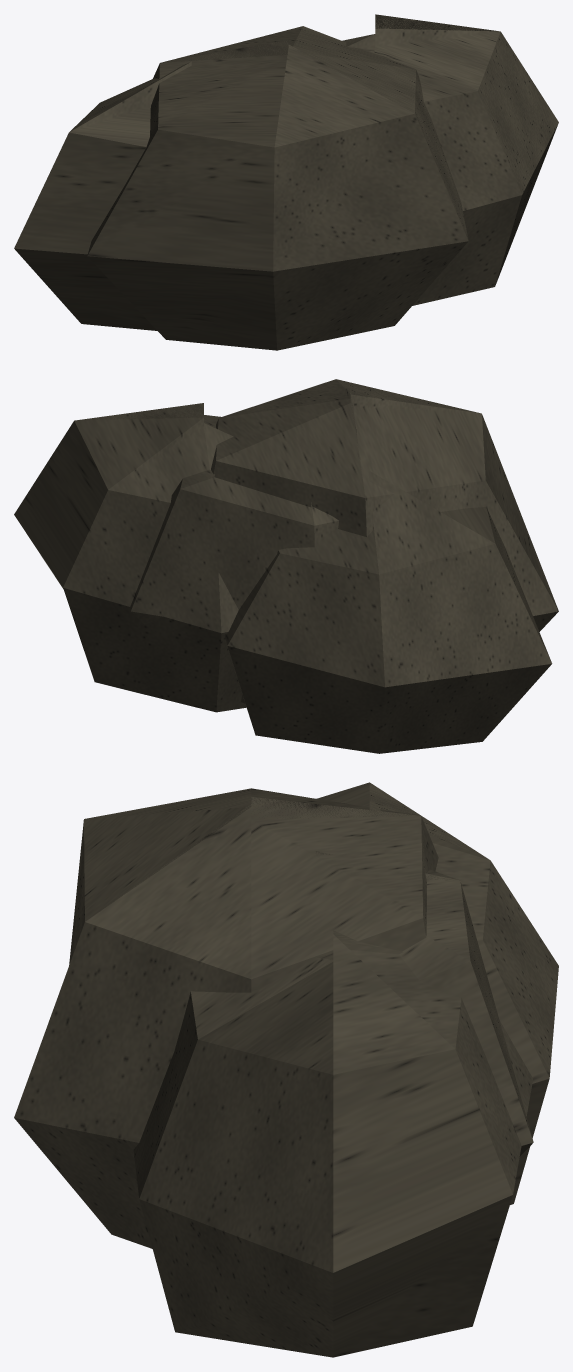
Rendered from PROP-ED02F1904540_lod2.glb.
3 views of the same model, one above another, from view 1: azimuth 30°, elevation 25°; view 2: azimuth 150°, elevation 25°; view 3: azimuth 270°, elevation 25° (orthographic). The views are drawn at different scales.
Visible parts, largest first — view 1: rock.005; view 2: rock.005; view 3: rock.005.
Part boxes in pixels (x1,y1,x2,y2): rock.005: (14,14,558,350); rock.005: (14,379,558,753); rock.005: (14,782,558,1357).
Bounding box in the file's own units: 2.11 × 1.03 × 1.26.
Materials: 1 (1 with a texture image).
